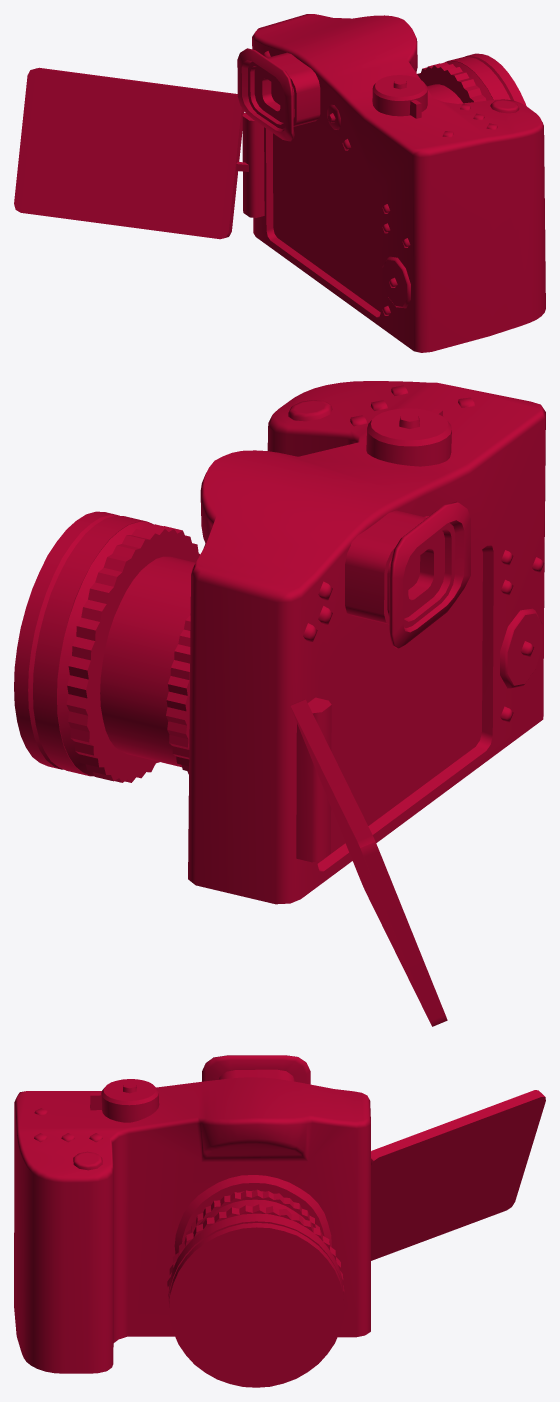
File: camera.fbx
The picture shows the model from 3 angles, top to bottom: view 1: azimuth 30°, elevation 25°; view 2: azimuth 150°, elevation 25°; view 3: azimuth 270°, elevation 25°; orthographic projection. The views are drawn at different scales.
Visible parts, largest first — view 1: camera_01_low, camera_04_low, camera_02_low, camera_03_low; view 2: camera_01_low, camera_02_low, camera_04_low, camera_03_low; view 3: camera_01_low, camera_04_low, camera_02_low.
Boxes of the visible parts, <box> form: camera_01_low: <box>252,14,545,352</box>; camera_04_low: <box>14,48,510,239</box>; camera_02_low: <box>242,51,519,315</box>; camera_03_low: <box>236,61,493,287</box>; camera_01_low: <box>14,381,545,904</box>; camera_02_low: <box>66,385,544,862</box>; camera_04_low: <box>33,408,470,1026</box>; camera_03_low: <box>57,413,533,775</box>; camera_01_low: <box>14,1077,370,1387</box>; camera_04_low: <box>90,1055,545,1301</box>; camera_02_low: <box>34,1069,344,1296</box>.
Bounding box in the file's own units: 5 × 2.98 × 6.1.
